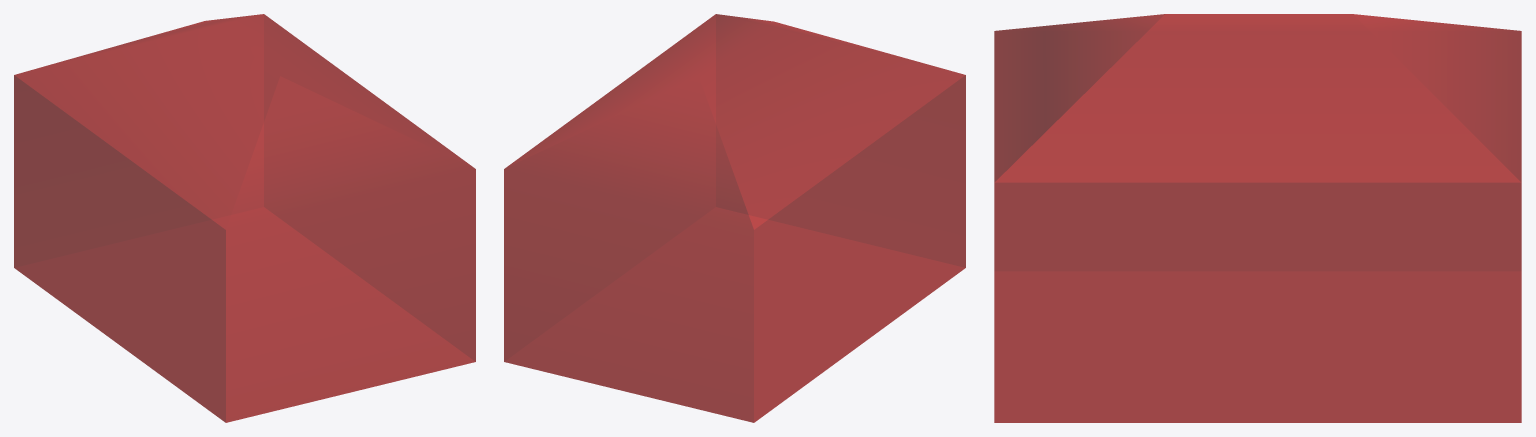
Rendered from SM_Bld_House_Preset_01_COLLISION.fbx.
3 renders of one model, left to right at view 1: azimuth 30°, elevation 25°; view 2: azimuth 150°, elevation 25°; view 3: azimuth 270°, elevation 25°, orthographic. The views are drawn at different scales.
Parts seen in each view (by area): view 1: SM_Bld_House_Preset_01_COLLISION; view 2: SM_Bld_House_Preset_01_COLLISION; view 3: SM_Bld_House_Preset_01_COLLISION.
Boxes of the visible parts, x1=… form: SM_Bld_House_Preset_01_COLLISION: x1=14, y1=14, x2=475, y2=422; SM_Bld_House_Preset_01_COLLISION: x1=504, y1=14, x2=965, y2=422; SM_Bld_House_Preset_01_COLLISION: x1=994, y1=14, x2=1521, y2=422.
Bounding box in the file's own units: 554 × 564 × 812.
